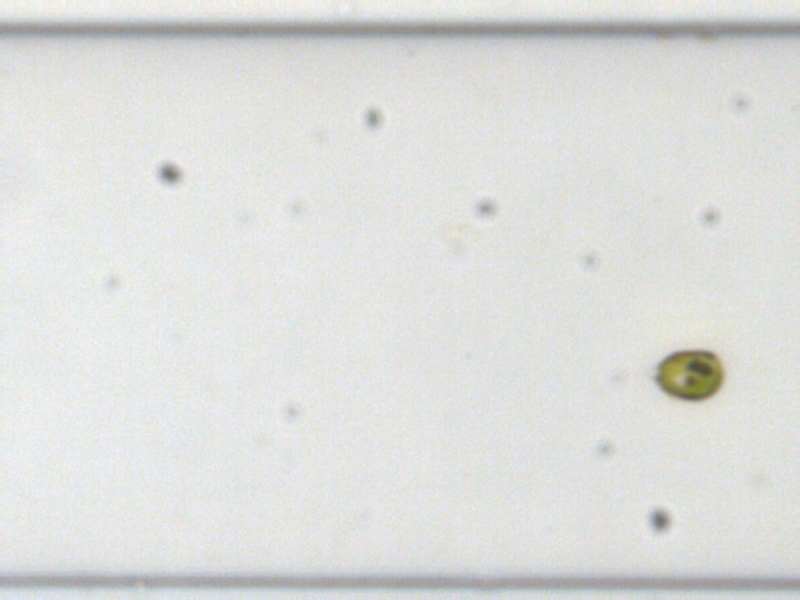Platymonas: (649, 345, 724, 400)
